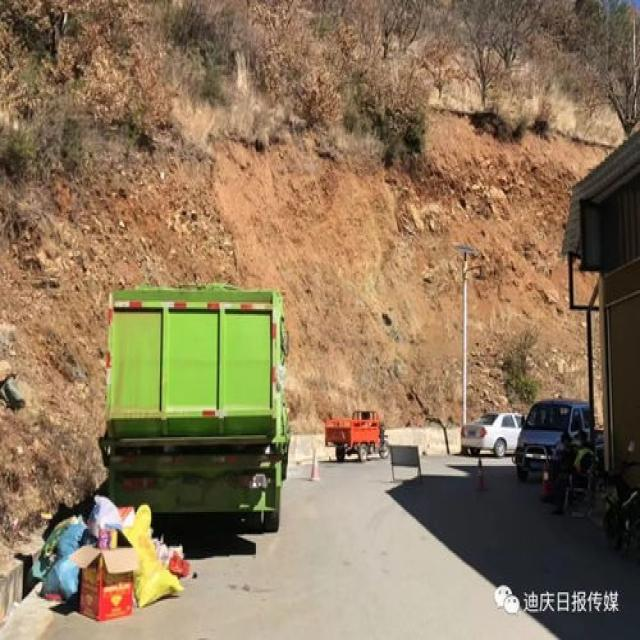garbage: (30, 493, 188, 621)
